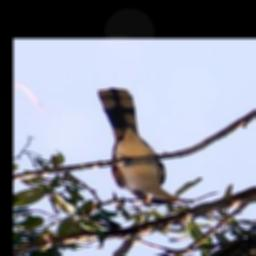Cuckoo: (94, 86, 194, 207)
